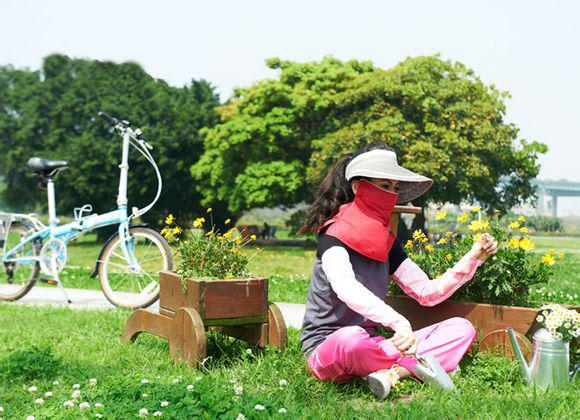OK: (365, 177, 403, 215)
